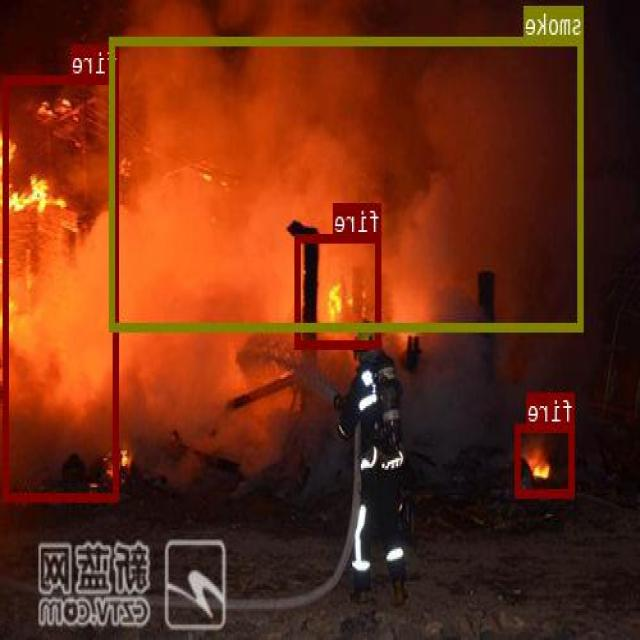fire: (4, 76, 119, 500), (297, 234, 381, 346), (517, 422, 576, 497)
smoke: (111, 35, 584, 330)
